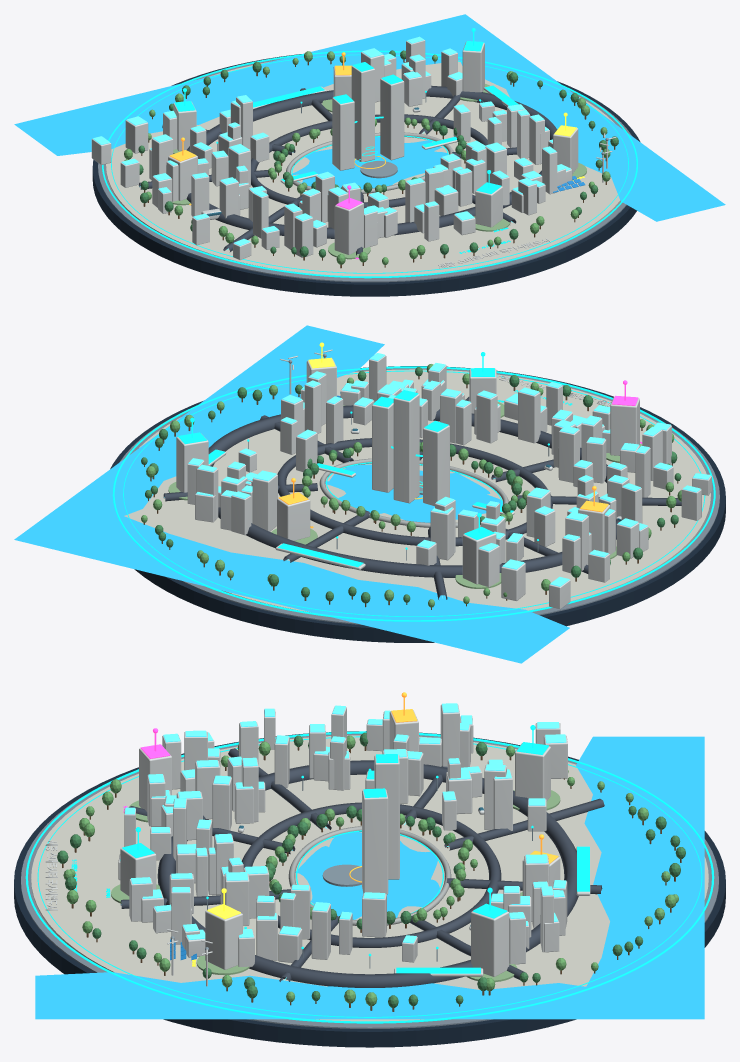
File: sejong-smartcity-5-1.glb
The picture shows the model from 3 angles, top to bottom: view 1: azimuth 30°, elevation 25°; view 2: azimuth 150°, elevation 25°; view 3: azimuth 270°, elevation 25°; orthographic projection. The views are drawn at different scales.
Parts seen in each view (by area): view 1: City_Terrain, Miho_River, Geum_River, Diorama_Base, Diorama_Chrome_Rim, BRT_Autonomous_Ring, Central_Blue_Green_Lake, Digital_Rim_40.0, AI_DigitalTwin_Tower_2, AI_DigitalTwin_Tower_3, Inner_Mobility_Loop, AI_DigitalTwin_Tower_1 (+34 smaller); view 2: City_Terrain, Miho_River, Geum_River, Diorama_Base, BRT_Autonomous_Ring, Central_Blue_Green_Lake, Diorama_Chrome_Rim, Inner_Mobility_Loop, Digital_Rim_40.0, AI_DigitalTwin_Tower_2, AI_DigitalTwin_Tower_1, AI_DigitalTwin_Tower_3 (+37 smaller); view 3: City_Terrain, Miho_River, Geum_River, Diorama_Base, BRT_Autonomous_Ring, Central_Blue_Green_Lake, Diorama_Chrome_Rim, Inner_Mobility_Loop, Digital_Rim_40.0, AI_DigitalTwin_Tower_3, Governance_Center, AI_DigitalTwin_Tower_2 (+45 smaller).
Boxes of the visible parts, x1,y1,x2,y2 form: City_Terrain: (106,60,620,276); Miho_River: (14,14,464,155); Geum_River: (451,14,725,221); Diorama_Base: (92,54,640,296); Diorama_Chrome_Rim: (98,58,631,282); BRT_Autonomous_Ring: (186,85,557,238); Central_Blue_Green_Lake: (291,137,447,189); Digital_Rim_40.0: (102,50,637,278); AI_DigitalTwin_Tower_2: (351,65,374,161); AI_DigitalTwin_Tower_3: (380,78,404,160); Inner_Mobility_Loop: (251,114,487,208); AI_DigitalTwin_Tower_1: (332,97,354,170); City_Terrain: (124,369,710,612); Miho_River: (14,516,569,663); Geum_River: (14,325,384,539); Diorama_Base: (110,366,725,642); BRT_Autonomous_Ring: (208,405,620,577); Central_Blue_Green_Lake: (325,464,502,522); Diorama_Chrome_Rim: (119,368,719,624); Inner_Mobility_Loop: (277,438,552,546); Digital_Rim_40.0: (112,366,715,621); AI_DigitalTwin_Tower_2: (393,394,419,503); AI_DigitalTwin_Tower_1: (423,425,449,506); AI_DigitalTwin_Tower_3: (372,403,393,492); City_Terrain: (31,735,708,1021); Miho_River: (576,736,704,1018); Geum_River: (35,972,703,1019); Diorama_Base: (14,731,725,1047); BRT_Autonomous_Ring: (157,760,578,987); Central_Blue_Green_Lake: (295,832,440,919); Diorama_Chrome_Rim: (21,733,718,1028); Inner_Mobility_Loop: (241,802,501,947); Digital_Rim_40.0: (25,731,714,1023); AI_DigitalTwin_Tower_3: (362,789,388,894); Governance_Center: (471,911,509,976); AI_DigitalTwin_Tower_2: (374,755,399,879).
Size of the model in its own units: 83 by 17.9 by 83.
